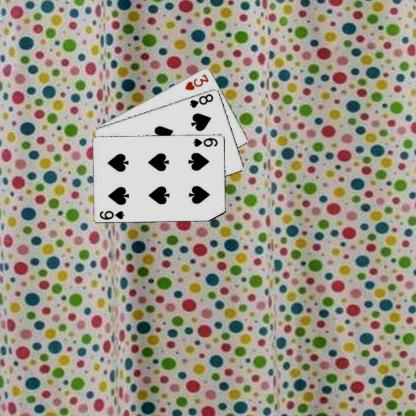3H: (182, 72, 210, 92)
6S: (190, 136, 218, 148), (98, 208, 126, 220)
8S: (187, 91, 214, 109)
